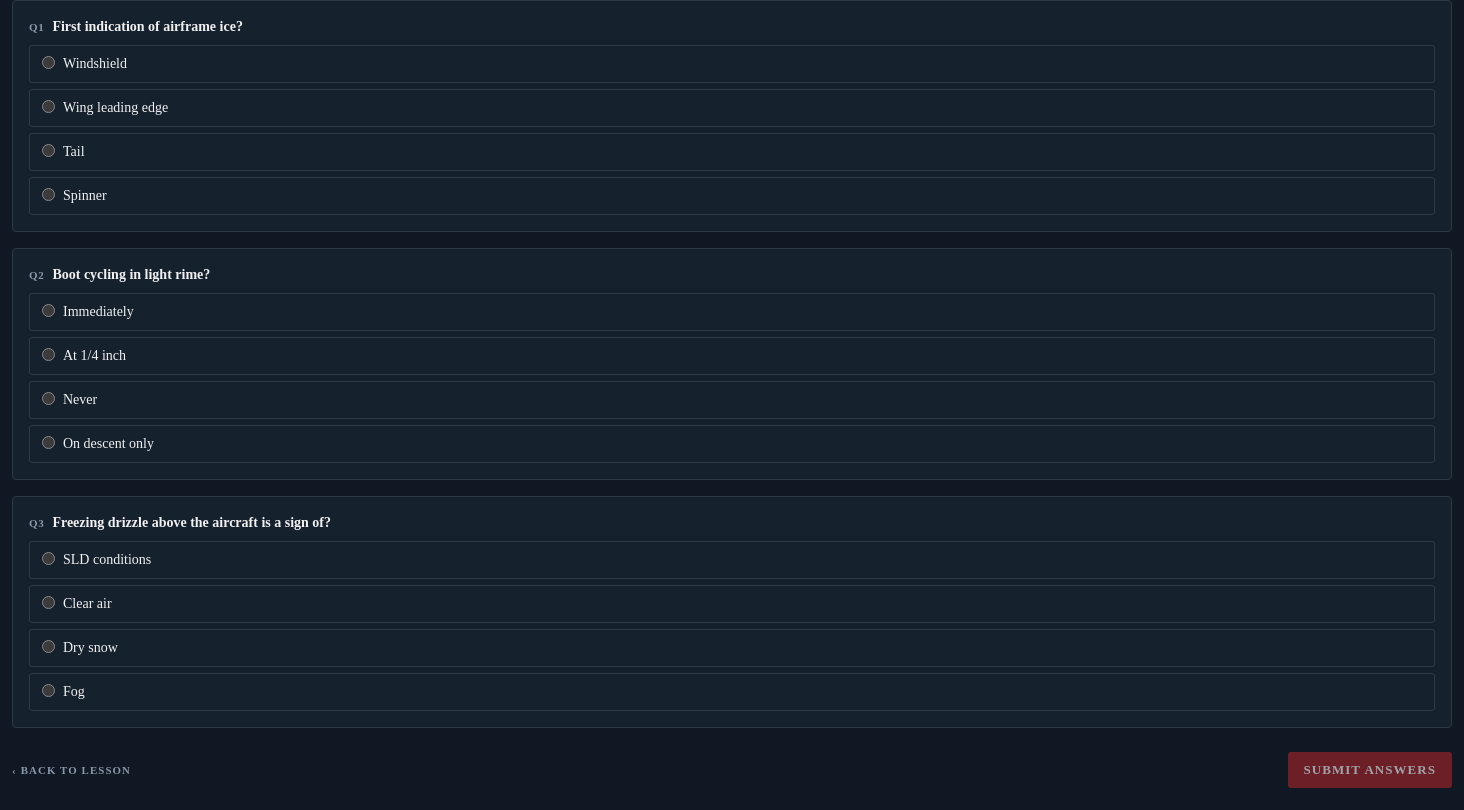
Test: the result comes from the server, not the client › shows the correct answer only on the questions that were missed
The image size is (1464, 810).
Click the radio button labelled "Wing leading edge" at [48, 106], box [42,100,55,113]
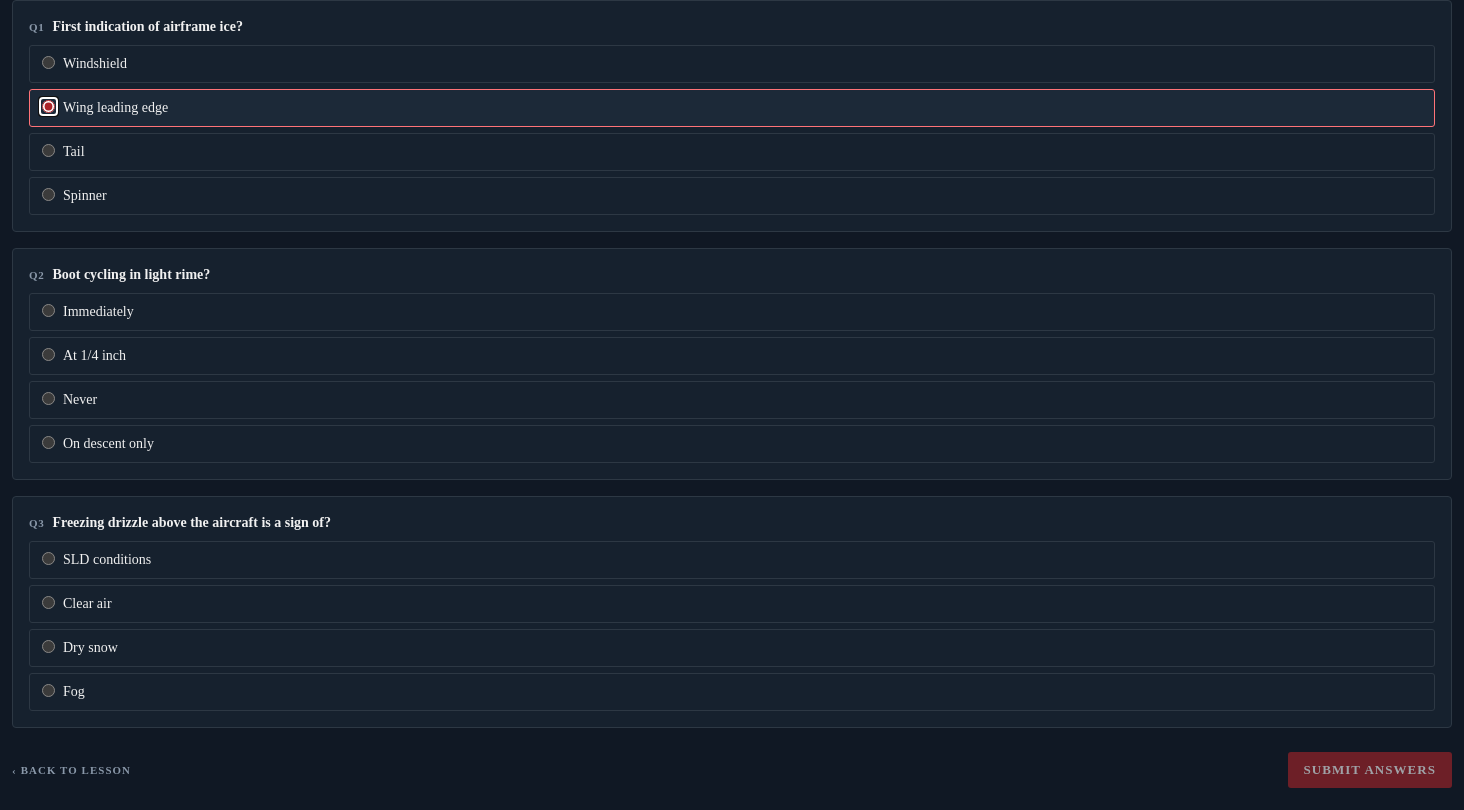
Click the radio button labelled "At 1/4 inch" at [48, 354], box [42,348,55,361]
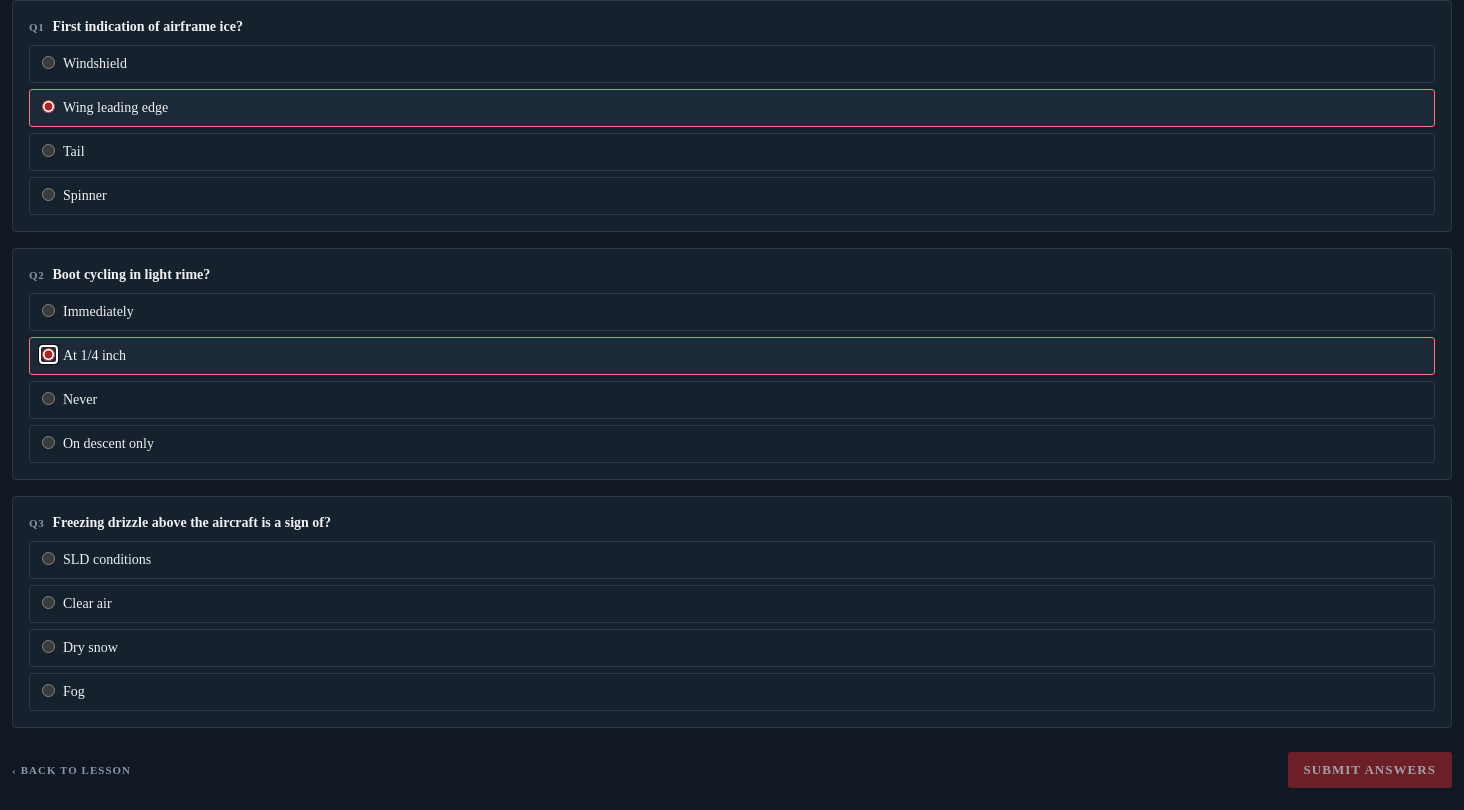
Click the radio button labelled "SLD conditions" at [48, 558], box [42,552,55,565]
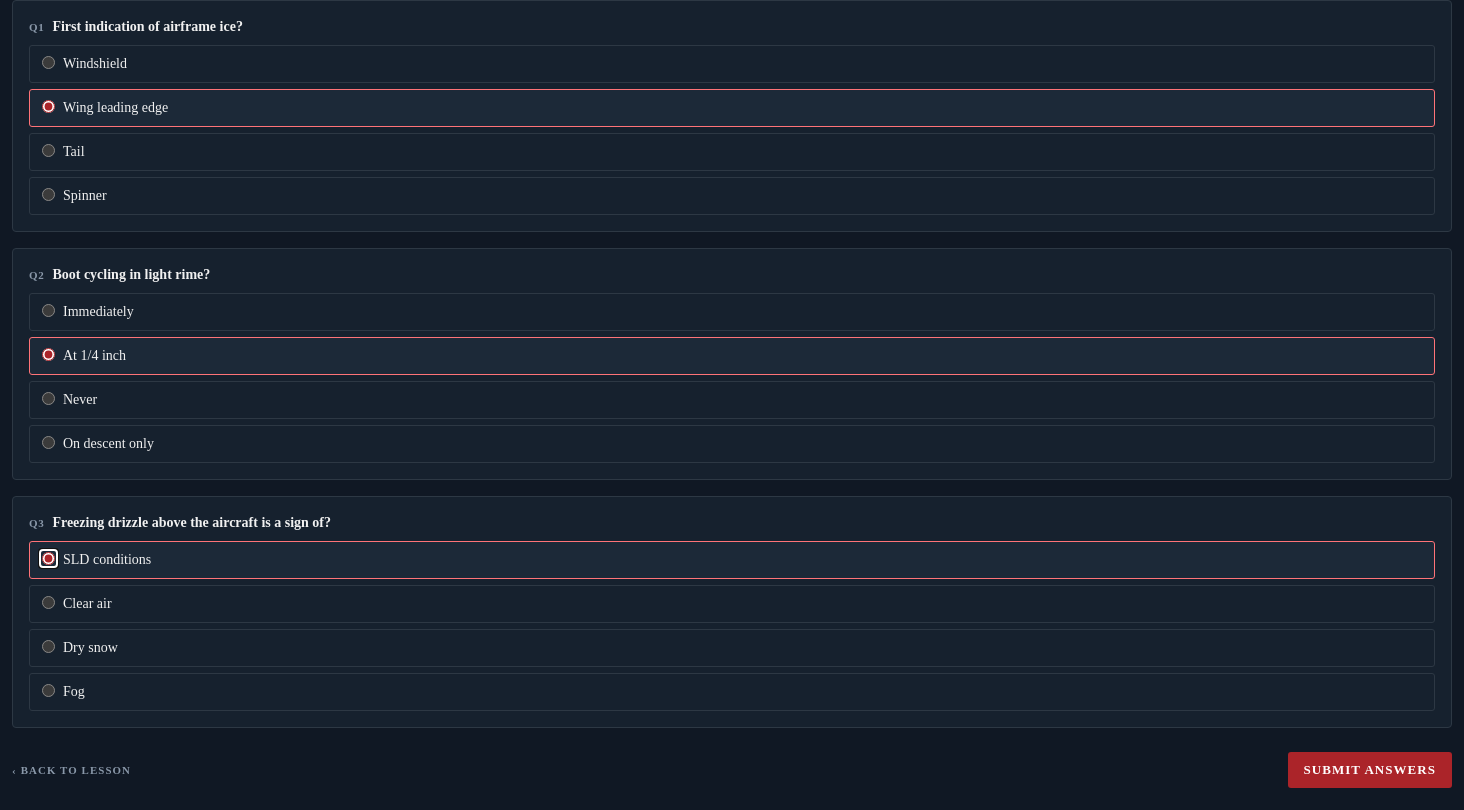
Click the button "Submit answers" at [1370, 770], box [1288,752,1452,788]
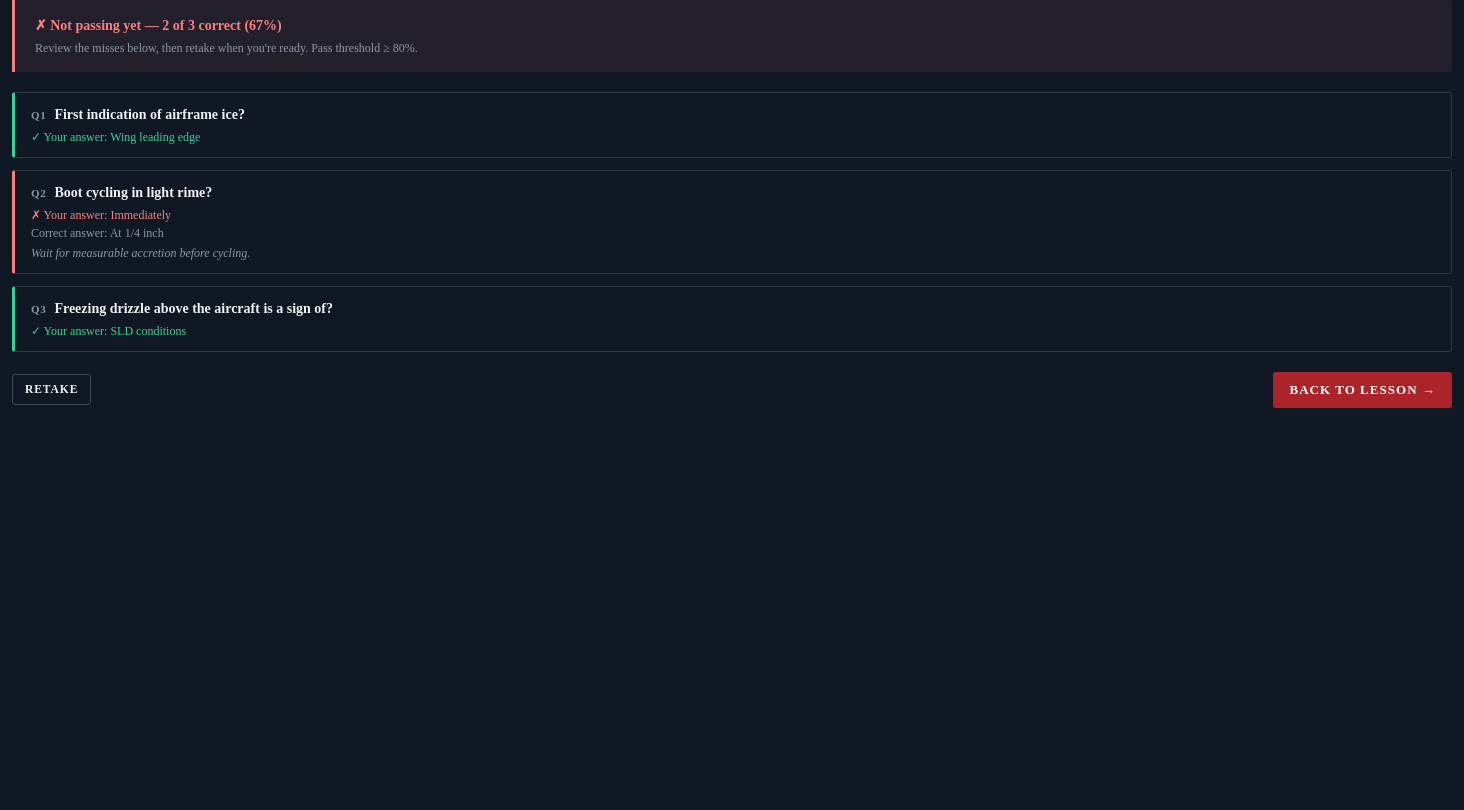
Expected: the list item that starts with "Boot cycling in light rime?" is shown, [12,170,1452,274]
Expected: the text "Correct answer: At 1/4 inch" is shown, [31,226,164,240]
Expected: the text "Wait for measurable accretion before cycling." is shown, [31,246,250,260]
